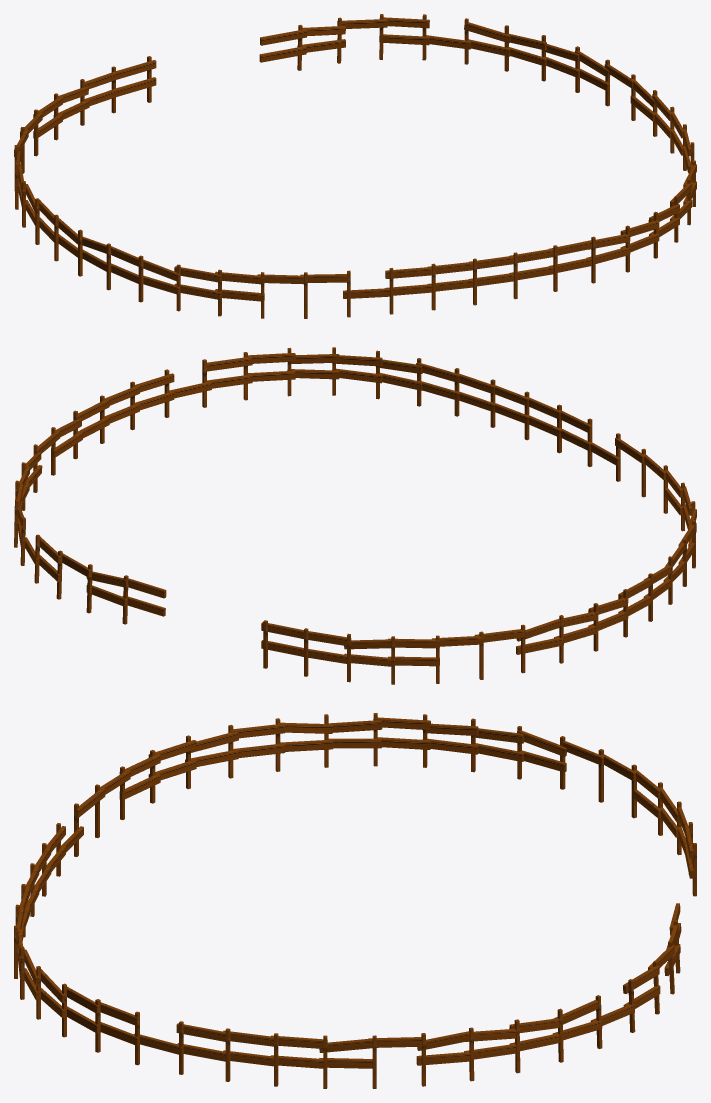
File: fance.fbx
3 views of the same model, one above another, from view 1: azimuth 30°, elevation 25°; view 2: azimuth 150°, elevation 25°; view 3: azimuth 270°, elevation 25° (orthographic). The views are drawn at different scales.
Parts seen in each view (by area): view 1: BezierCurve.001; view 2: BezierCurve.001; view 3: BezierCurve.001.
Part boxes in pixels (box(x1,y1,x2,y2)): BezierCurve.001: box(14, 14, 696, 318); BezierCurve.001: box(14, 347, 696, 684); BezierCurve.001: box(14, 713, 696, 1088).
Size of the model in its own units: 1563 by 123 by 1391.
